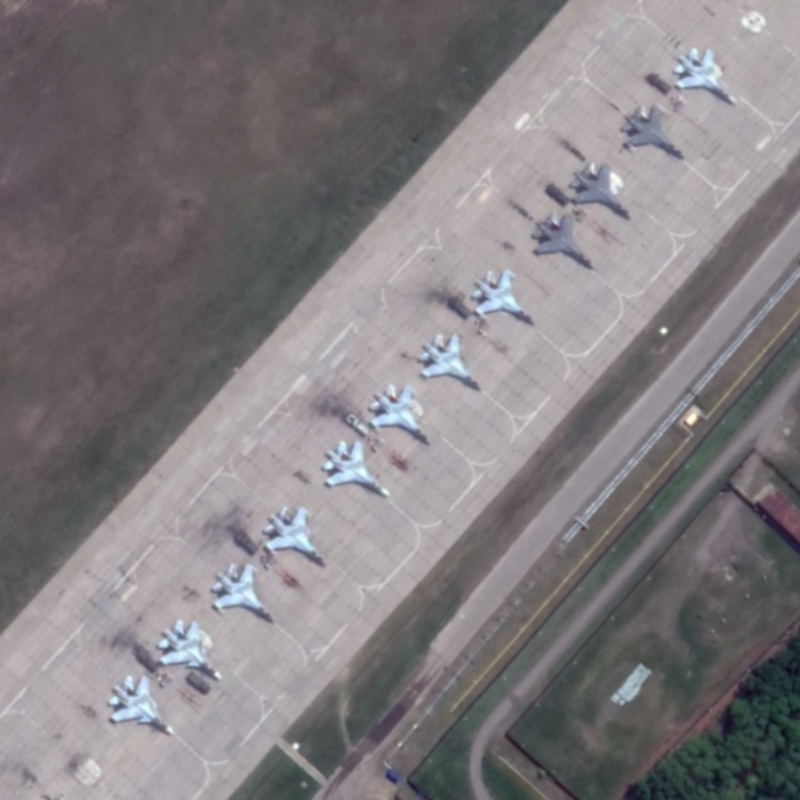A1: (208, 561, 277, 624), (322, 439, 394, 499), (368, 382, 434, 446), (672, 46, 740, 108), (417, 331, 484, 393), (262, 505, 329, 566), (619, 102, 688, 161), (528, 211, 597, 270), (468, 268, 536, 325), (568, 161, 631, 218)
A19: (155, 617, 226, 684), (106, 673, 178, 739)
